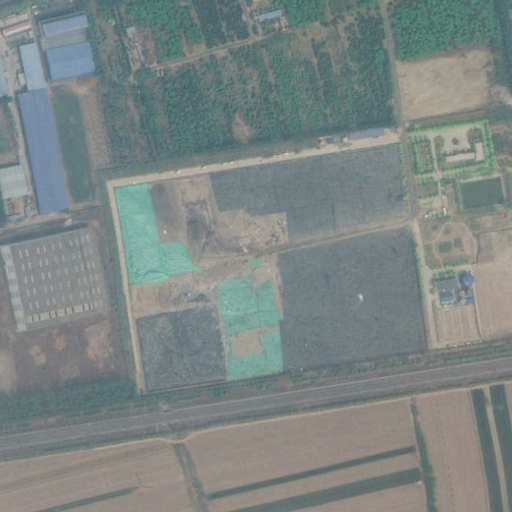lf: (113, 141, 428, 394)
